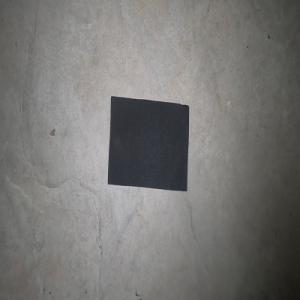PaintChip: (107, 96, 189, 191)
